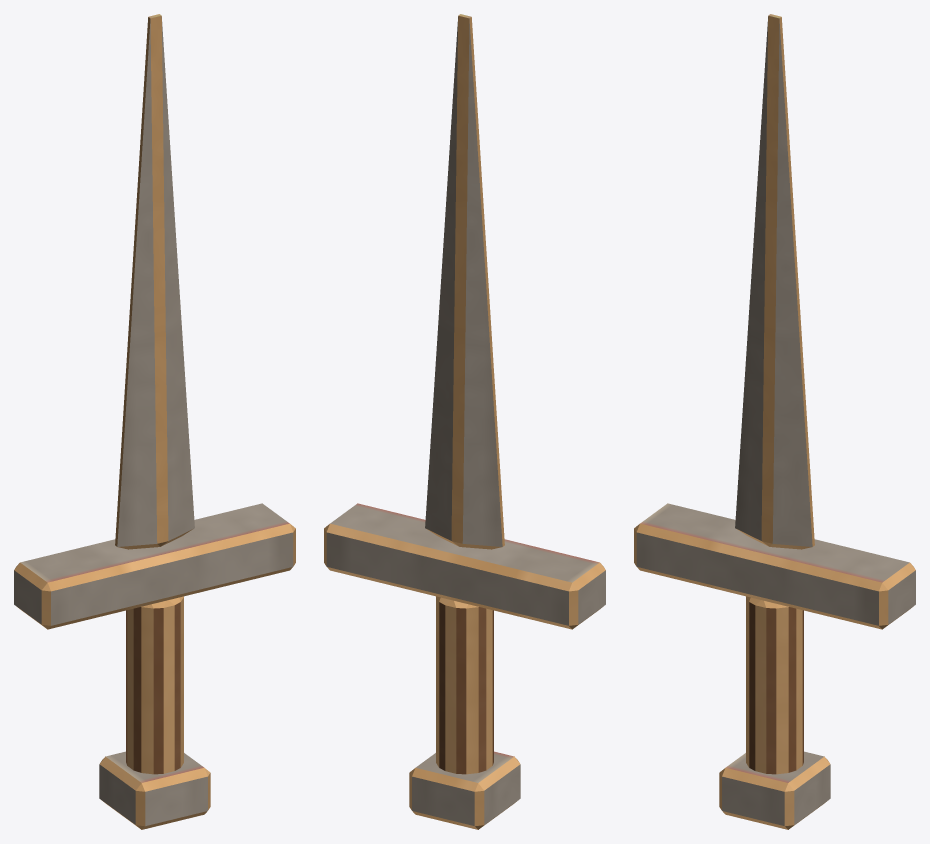
File: sm_tool_sword.glb
3 renders of one model, left to right at view 1: azimuth 30°, elevation 25°; view 2: azimuth 150°, elevation 25°; view 3: azimuth 330°, elevation 25°, orthographic.
Visible parts, largest first — view 1: sm_tool_sword; view 2: sm_tool_sword; view 3: sm_tool_sword.
Part boxes in pixels (x1=…): sm_tool_sword: x1=14, y1=14, x2=295, y2=829; sm_tool_sword: x1=324, y1=14, x2=605, y2=829; sm_tool_sword: x1=634, y1=14, x2=915, y2=829.
Bounding box in the file's own units: 0.17 × 0.5066 × 0.05.
Materials: 1 (1 with a texture image).
